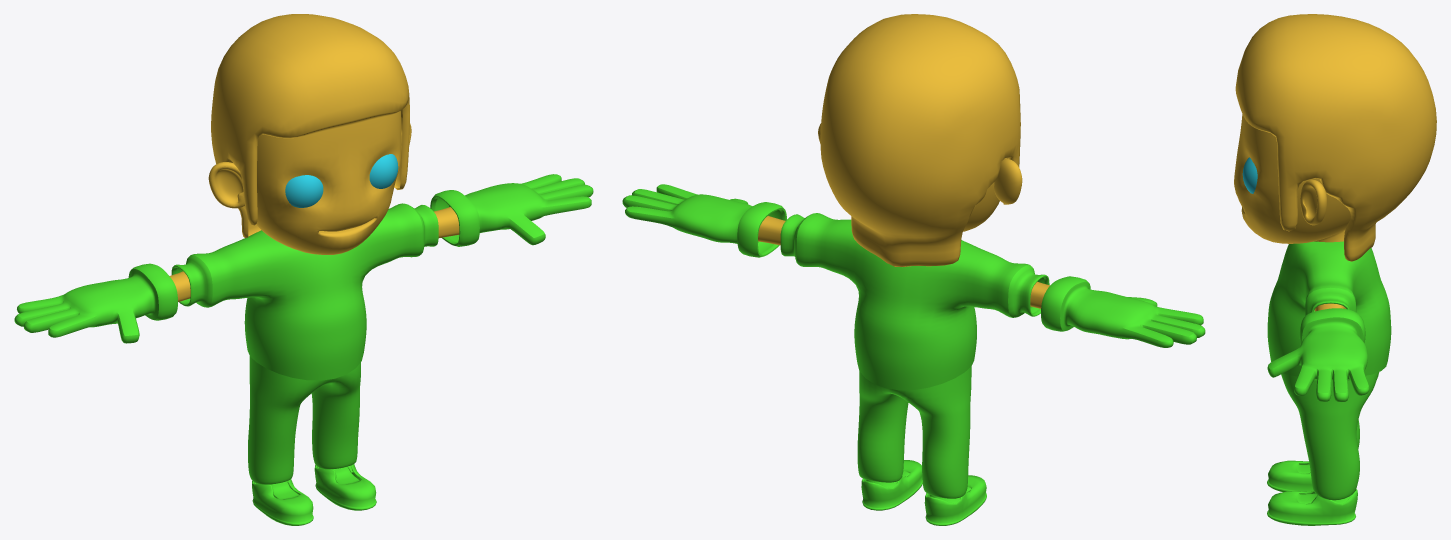
Rendered from Player 2.fbx.
The picture shows the model from 3 angles, left to right: view 1: azimuth 30°, elevation 25°; view 2: azimuth 150°, elevation 25°; view 3: azimuth 270°, elevation 25°; orthographic projection.
Parts seen in each view (by area): view 1: Pelo, Jersei, Cabeza, Guantes, Pantalones, Sabates, Ojos, Orejas, Cuerpo; view 2: Pelo, Jersei, Guantes, Pantalones, Sabates, Orejas, Cuerpo, Cabeza; view 3: Pelo, Jersei, Guantes, Pantalones, Cabeza, Sabates, Orejas, Ojos.
Boxes of the visible parts, x1,y1,x2,y2 form: Pelo: [211, 14, 409, 237]; Jersei: [171, 203, 438, 380]; Cabeza: [243, 111, 401, 254]; Guantes: [14, 174, 593, 343]; Pantalones: [248, 356, 360, 484]; Sabates: [252, 464, 376, 525]; Ojos: [285, 154, 398, 207]; Orejas: [208, 123, 411, 208]; Cuerpo: [169, 207, 459, 301]; Pelo: [820, 14, 1020, 266]; Jersei: [780, 213, 1049, 390]; Guantes: [622, 184, 1205, 347]; Pantalones: [857, 366, 971, 498]; Sabates: [861, 460, 986, 525]; Orejas: [818, 123, 1022, 204]; Cuerpo: [758, 216, 1049, 308]; Cabeza: [963, 159, 1004, 231]; Pelo: [1235, 14, 1436, 261]; Jersei: [1267, 241, 1391, 376]; Guantes: [1267, 308, 1369, 401]; Pantalones: [1281, 372, 1379, 500]; Cabeza: [1234, 114, 1350, 243]; Sabates: [1267, 460, 1357, 525]; Orejas: [1300, 179, 1326, 225]; Ojos: [1242, 157, 1257, 193].
Size of the model in its own units: 228 by 182 by 70.2.
